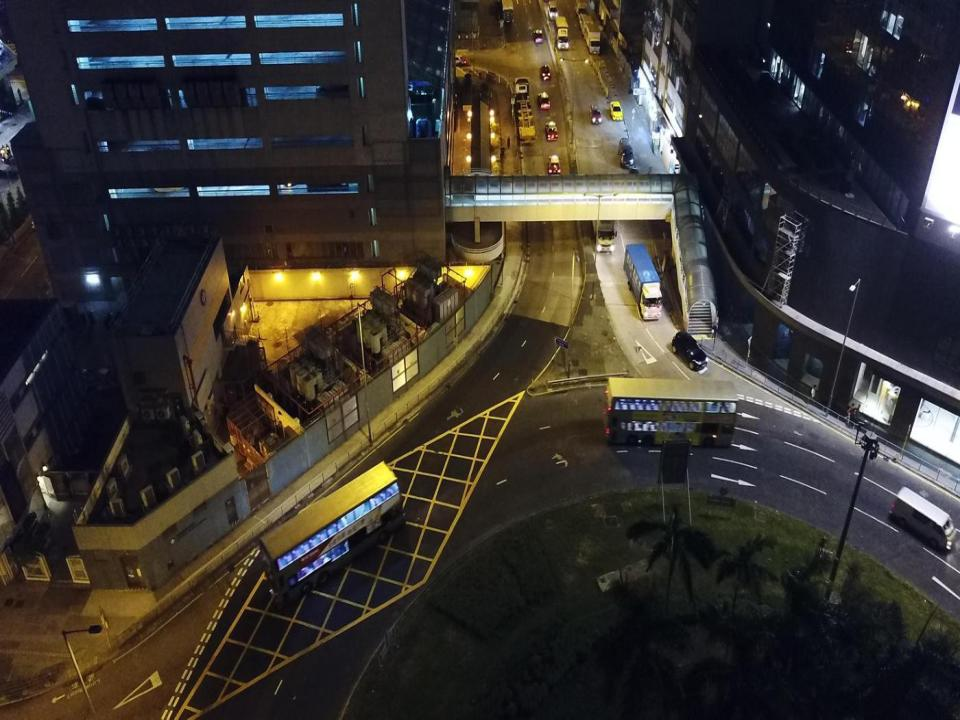bus: (256, 460, 406, 604), (605, 377, 738, 450)
car: (670, 330, 708, 370), (442, 54, 471, 67), (628, 167, 642, 192), (548, 154, 561, 176), (610, 100, 624, 120), (588, 103, 601, 124), (545, 121, 558, 140), (538, 91, 550, 110), (541, 63, 551, 82), (533, 27, 544, 44)
truck: (624, 243, 662, 321), (588, 181, 615, 251), (514, 76, 537, 144), (584, 23, 601, 54), (554, 16, 569, 50), (579, 14, 594, 38), (501, 0, 514, 25), (574, 0, 587, 19)
van: (892, 485, 958, 555), (618, 137, 634, 169), (547, 0, 558, 21)
